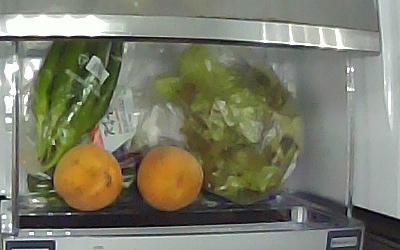peach: (53, 143, 123, 211), (137, 145, 204, 212)
